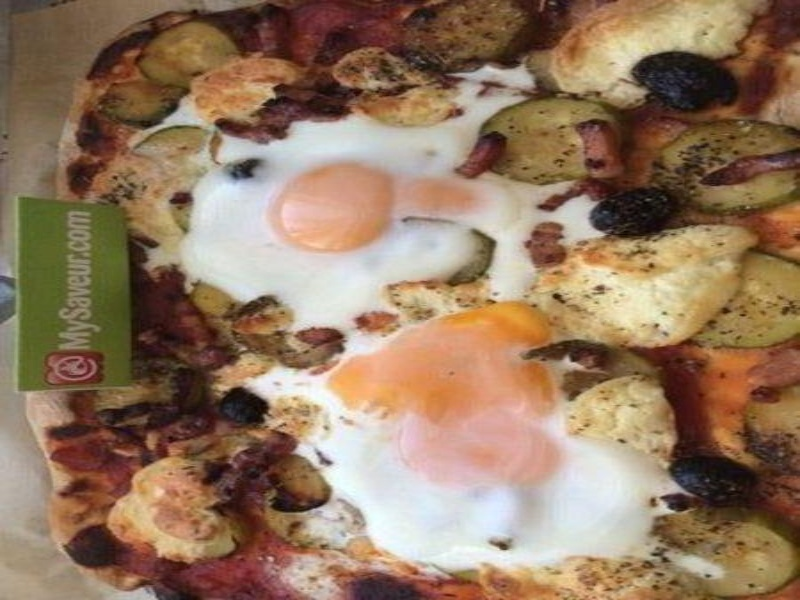oeuf: (264, 158, 415, 271)
